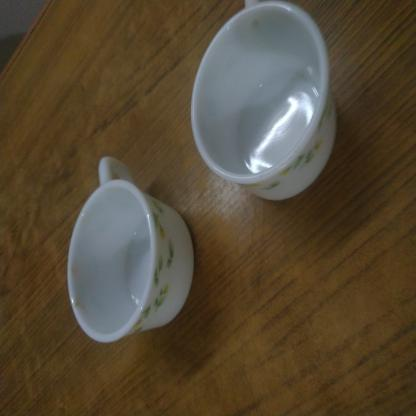cup: (52, 87, 198, 264), (160, 253, 312, 416)
